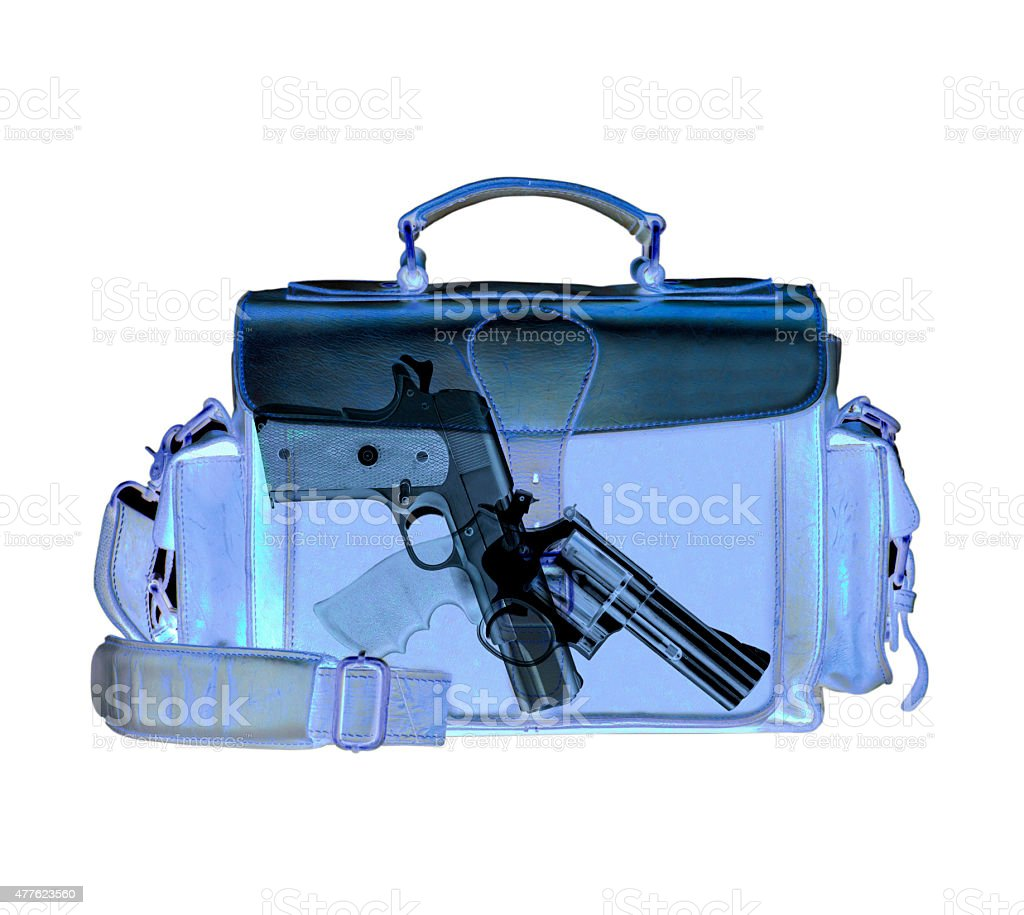gun: (245, 346, 773, 720)
